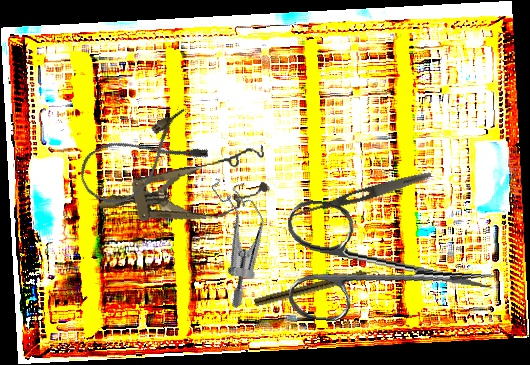Cannula: (71, 106, 212, 214)
Dressing Forceps: (289, 167, 433, 224)
Handpiece: (253, 265, 381, 310)
Iris Scissors: (278, 198, 503, 338)
Speculum: (172, 166, 298, 310), (93, 143, 274, 238)
